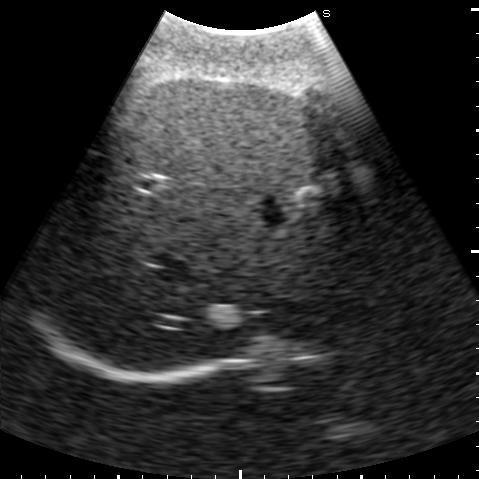S5: (120, 81, 329, 194)
S7: (35, 163, 153, 306)
S8: (92, 164, 378, 372)
Tumor: (207, 306, 241, 328), (290, 184, 325, 205)
